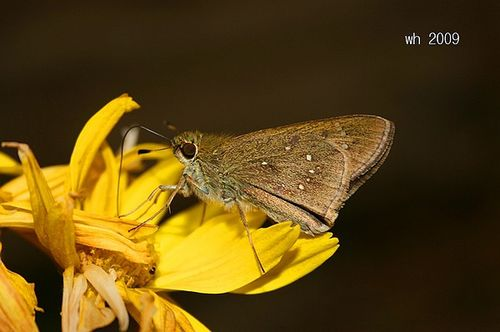Hesperiidae: (114, 118, 405, 251)
